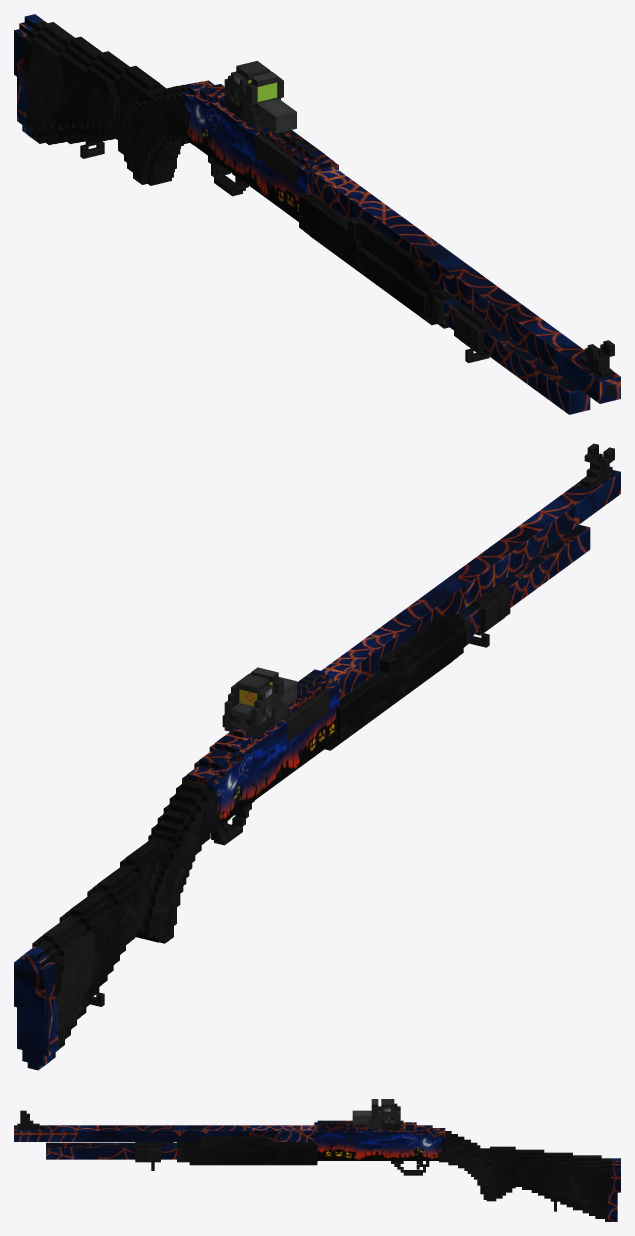
File: RD_BEKAS12M_SCARY.glb
3 renders of one model, top to bottom at view 1: azimuth 30°, elevation 25°; view 2: azimuth 150°, elevation 25°; view 3: azimuth 270°, elevation 25°, orthographic. The views are drawn at different scales.
Visible parts, largest first — view 1: BEKAS12M, BEKAS12M_FOREND, SCOPE_EOTECH, SCOPE_AIMPOINT; view 2: BEKAS12M, BEKAS12M_FOREND, SCOPE_EOTECH; view 3: BEKAS12M, BEKAS12M_FOREND, SCOPE_EOTECH.
Boxes of the visible parts, x1=… form: BEKAS12M: x1=14, y1=14, x2=620, y2=414; BEKAS12M_FOREND: x1=299, y1=193, x2=454, y2=328; SCOPE_EOTECH: x1=224, y1=61, x2=296, y2=133; SCOPE_AIMPOINT: x1=246, y1=72, x2=283, y2=108; BEKAS12M: x1=14, y1=443, x2=620, y2=1070; BEKAS12M_FOREND: x1=325, y1=612, x2=470, y2=750; SCOPE_EOTECH: x1=224, y1=674, x2=296, y2=737; BEKAS12M: x1=14, y1=1110, x2=620, y2=1221; BEKAS12M_FOREND: x1=177, y1=1136, x2=317, y2=1165; SCOPE_EOTECH: x1=352, y1=1099, x2=400, y2=1128.
Size of the model in its own units: 0.0787 by 0.4034 by 1.87.
Materials: 5 (5 with a texture image).
